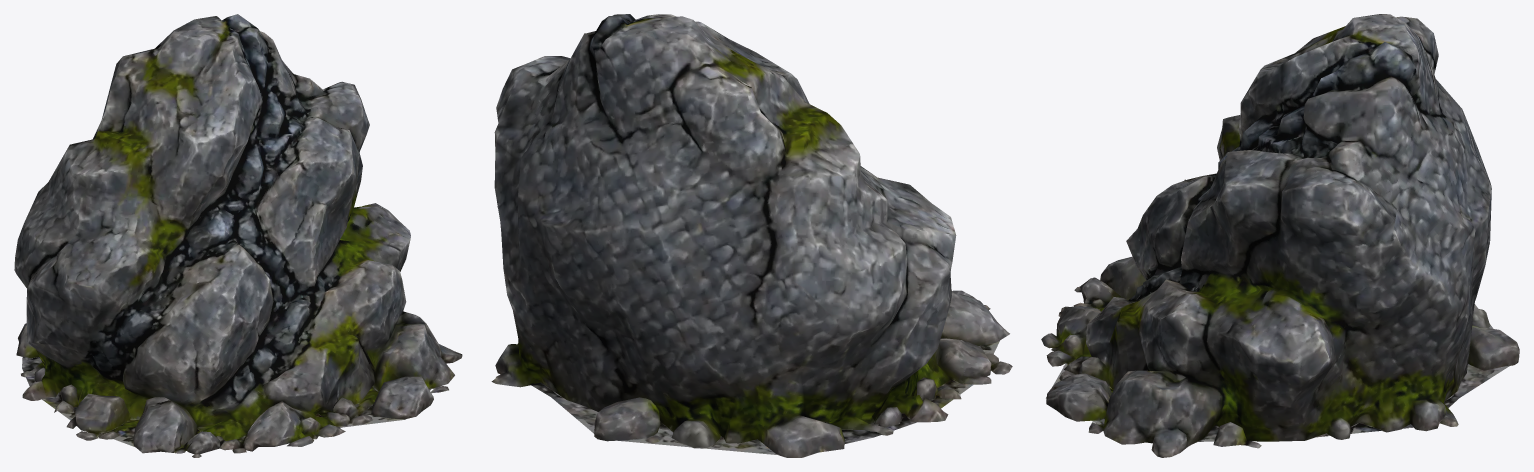
The model's file is schwarzeisen.glb.
The picture shows the model from 3 angles, left to right: view 1: azimuth 30°, elevation 25°; view 2: azimuth 150°, elevation 25°; view 3: azimuth 270°, elevation 25°; orthographic projection. The views are drawn at different scales.
Visible parts, largest first — view 1: baum; view 2: baum; view 3: baum.
Boxes of the visible parts, x1=… form: baum: x1=14, y1=14, x2=462, y2=457; baum: x1=491, y1=14, x2=1012, y2=457; baum: x1=1041, y1=14, x2=1519, y2=457.
Bounding box in the file's own units: 1.69 × 1.3 × 1.64.
1 material, 1 textured.
